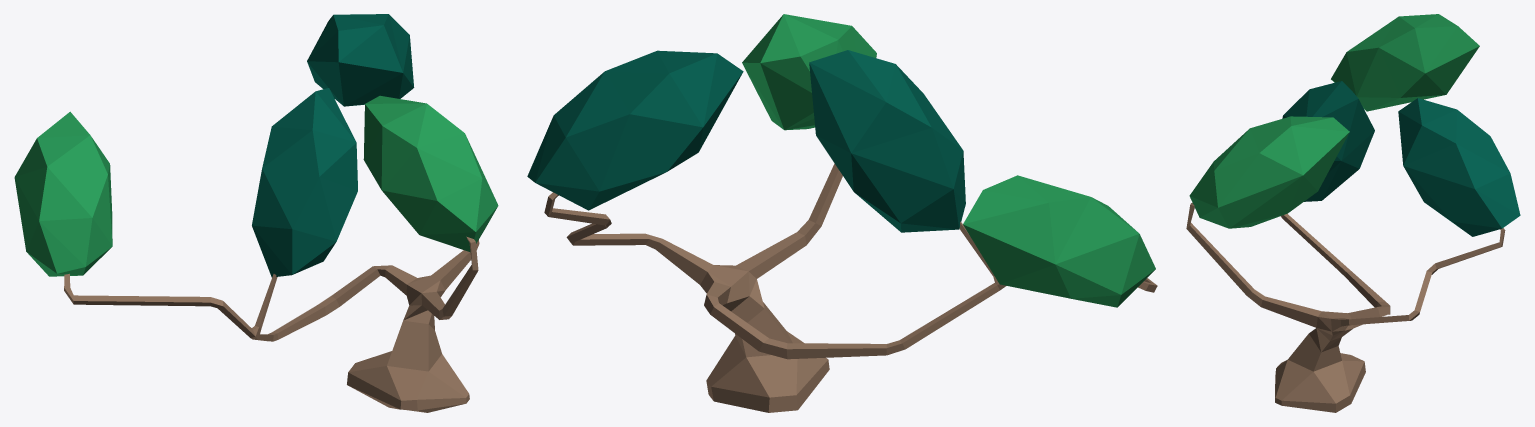
The model's file is LushTree_01_Mesh.fbx.
The picture shows the model from 3 angles, left to right: view 1: azimuth 30°, elevation 25°; view 2: azimuth 150°, elevation 25°; view 3: azimuth 270°, elevation 25°; orthographic projection. The views are drawn at different scales.
Visible parts, largest first — view 1: LushTree.003_LOD0; view 2: LushTree.003_LOD0; view 3: LushTree.003_LOD0.
Boxes of the visible parts, <box> form: LushTree.003_LOD0: <box>14,14,498,412</box>; LushTree.003_LOD0: <box>527,14,1157,412</box>; LushTree.003_LOD0: <box>1186,14,1520,412</box>.
Size of what is drawn, in the model's own units: 26599 by 18595 by 19291.
